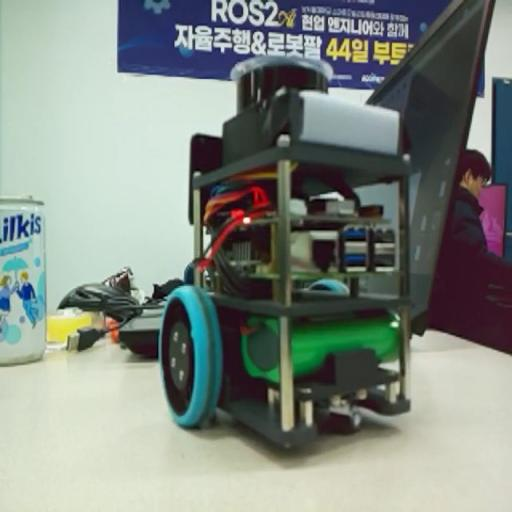pinky_63: (155, 51, 419, 458)
